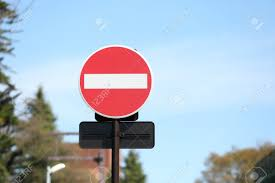No entry: (81, 45, 152, 119)
